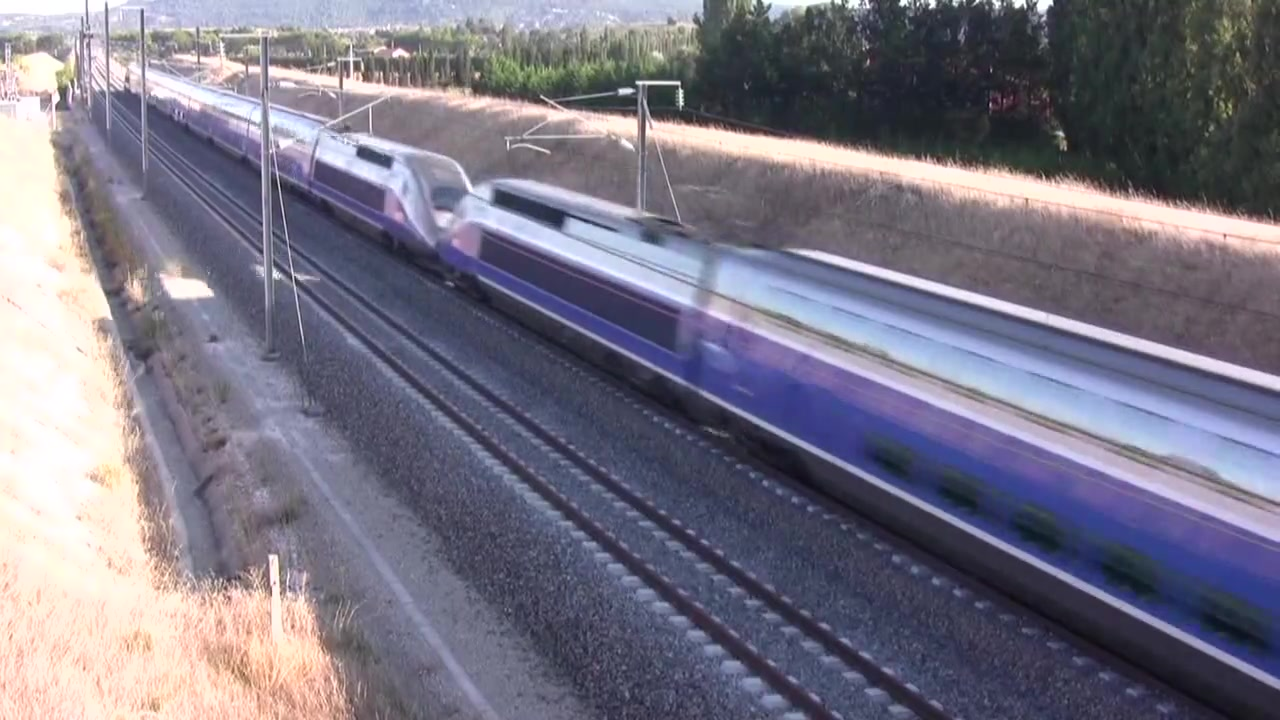train: (117, 56, 1280, 720)
